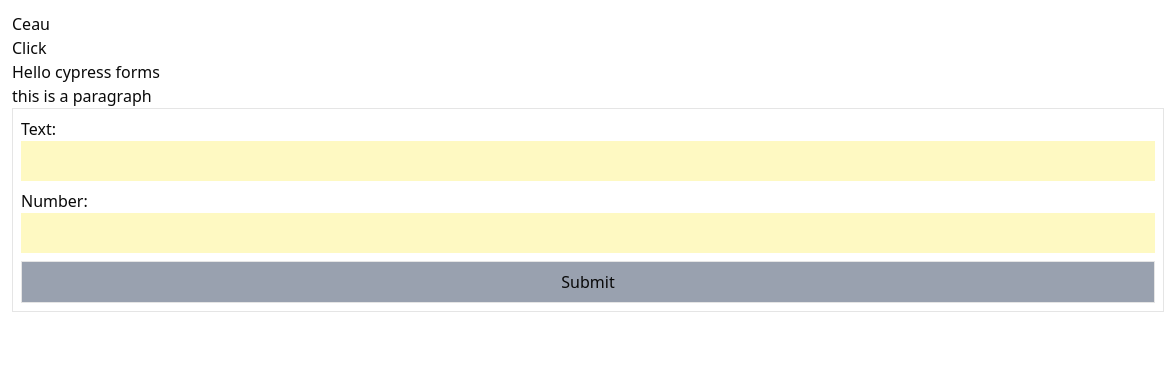
Scenario: fundamental test › submit form button should display the form data
In the field with test id "input-text": (588, 161) top-left (21, 141), bottom-right (1155, 181), type "Hello world"
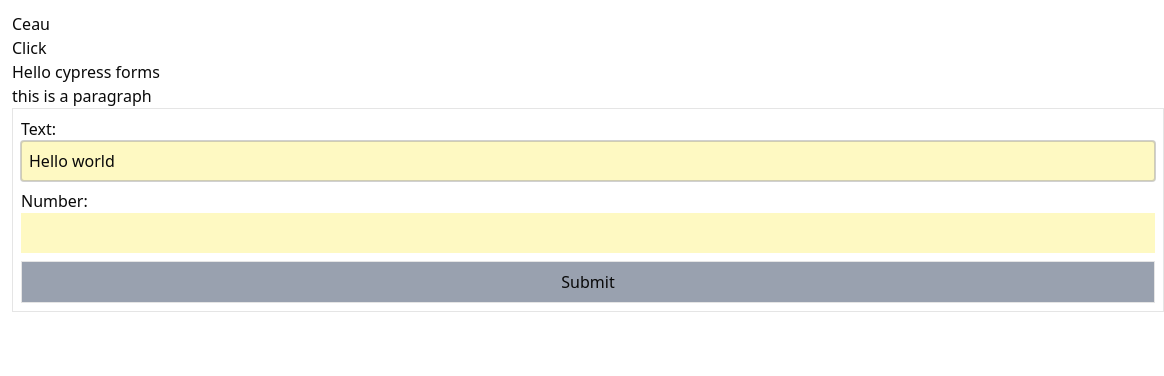
In the number field with test id "input-number": (588, 233) top-left (21, 213), bottom-right (1155, 253), type "123"
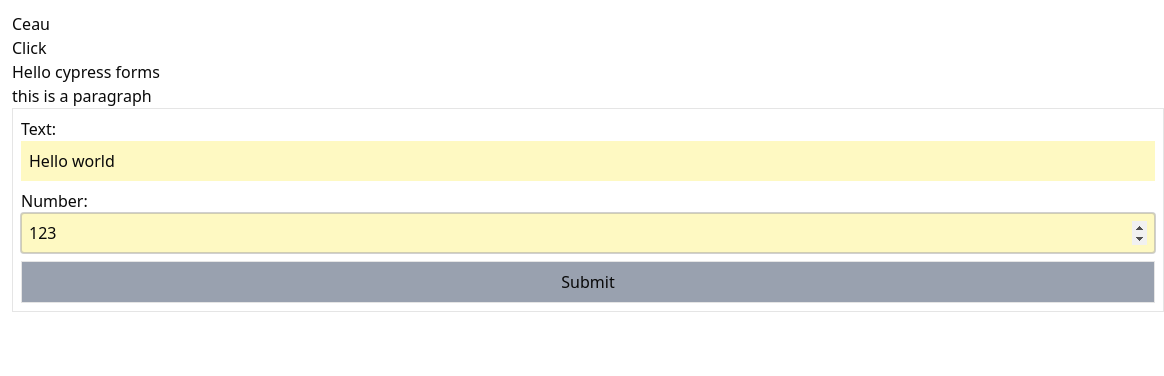
Click the button with test id "button-submit": (588, 282) top-left (21, 261), bottom-right (1155, 303)
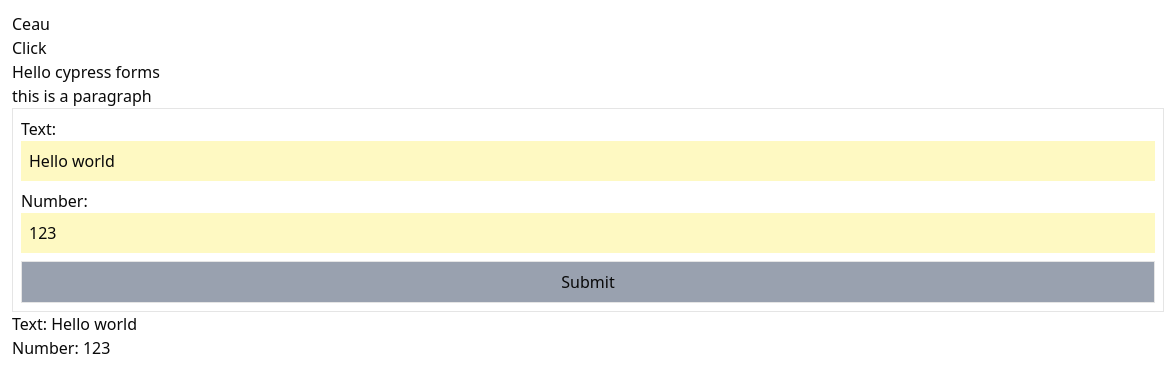
Check: the text with test id "display-text" shows "Hello world", box top-left (12, 313), bottom-right (137, 335)
Check: the text with test id "display-number" shows "123", box top-left (12, 337), bottom-right (110, 359)
